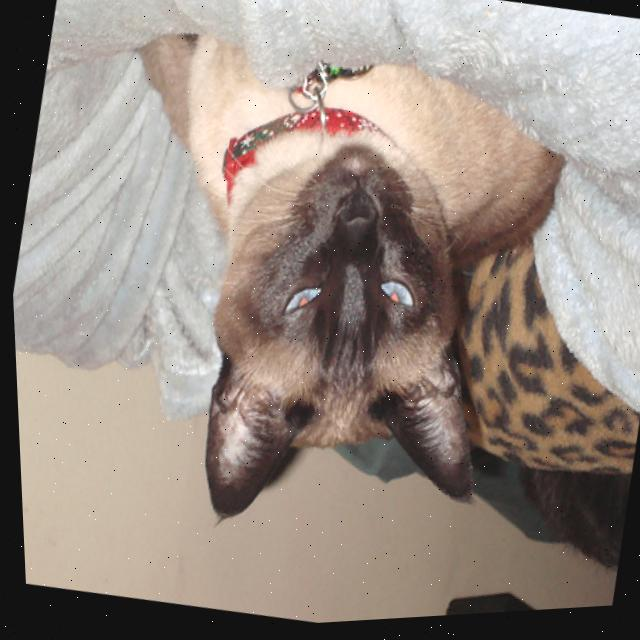Siamese: (45, 0, 599, 594)
